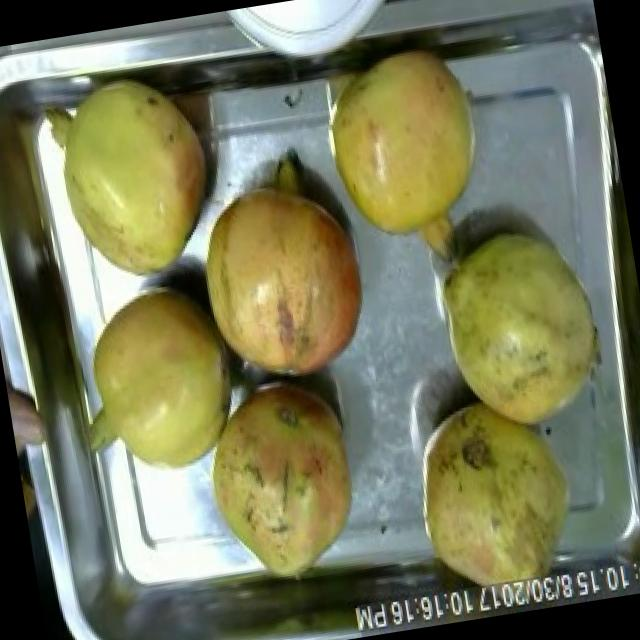fruit: (176, 134, 392, 402), (419, 204, 627, 456), (398, 378, 602, 624), (303, 32, 506, 270), (40, 58, 234, 299), (58, 267, 258, 497), (186, 359, 378, 597)
